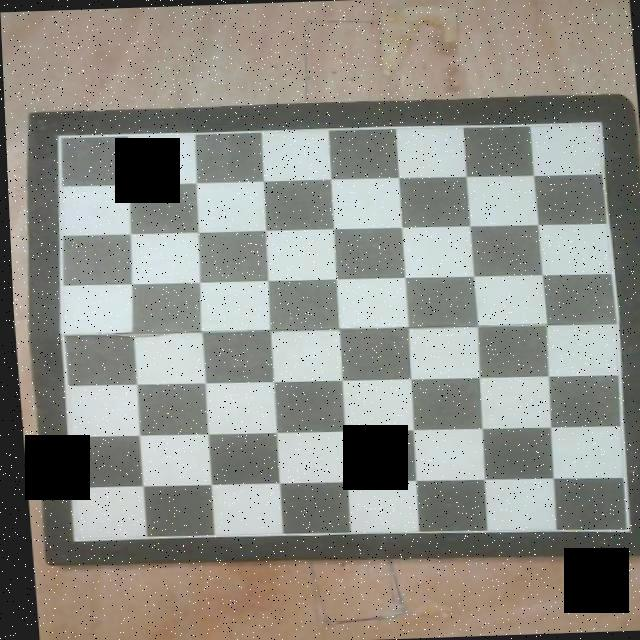chess-table-corners: (54, 134, 64, 140), (66, 535, 76, 541), (619, 526, 627, 532), (595, 119, 603, 125)
